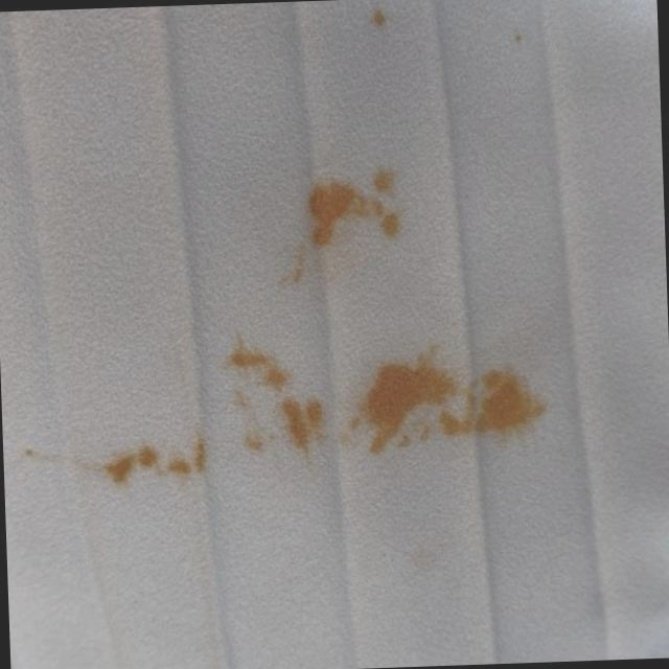kimchi: (17, 339, 555, 497), (273, 145, 413, 300), (362, 1, 399, 37), (504, 26, 533, 54)
